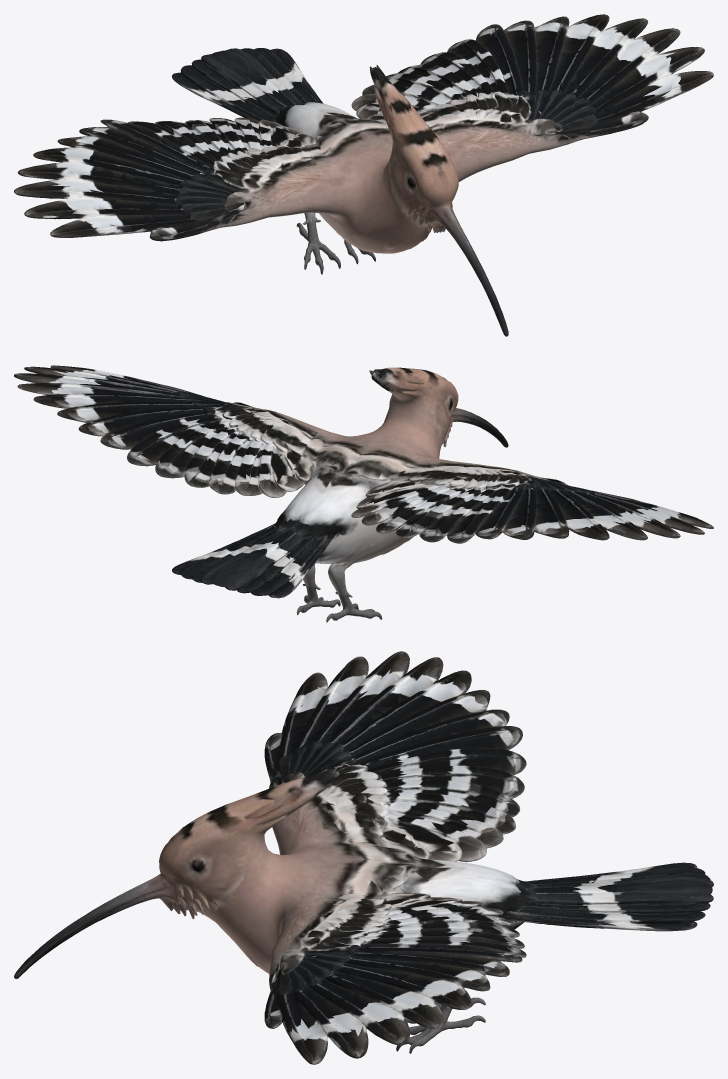
The model's file is Upupa_epops.glb.
3 renders of one model, top to bottom at view 1: azimuth 30°, elevation 25°; view 2: azimuth 150°, elevation 25°; view 3: azimuth 270°, elevation 25°, orthographic. The views are drawn at different scales.
Parts seen in each view (by area): view 1: orient; view 2: orient; view 3: orient.
Part boxes in pixels (left/top/right/bottom): orient: left=14, top=14, right=713, bottom=336; orient: left=14, top=365, right=713, bottom=622; orient: left=14, top=651, right=713, bottom=1064.
Bounding box in the file's own units: 0.5 × 0.1553 × 0.3695.
1 material, 1 textured.
